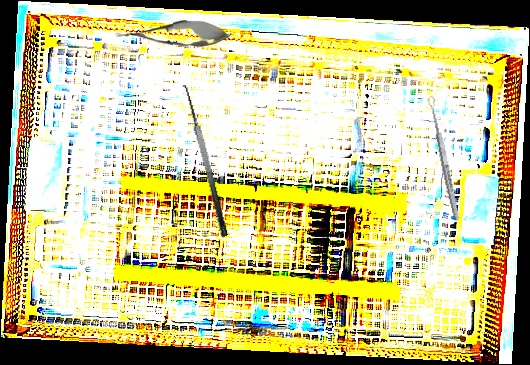Micro Scissor: (113, 19, 233, 50)
Spatula Surgical: (173, 83, 229, 240)
Surgical Spoon: (426, 95, 462, 222)
